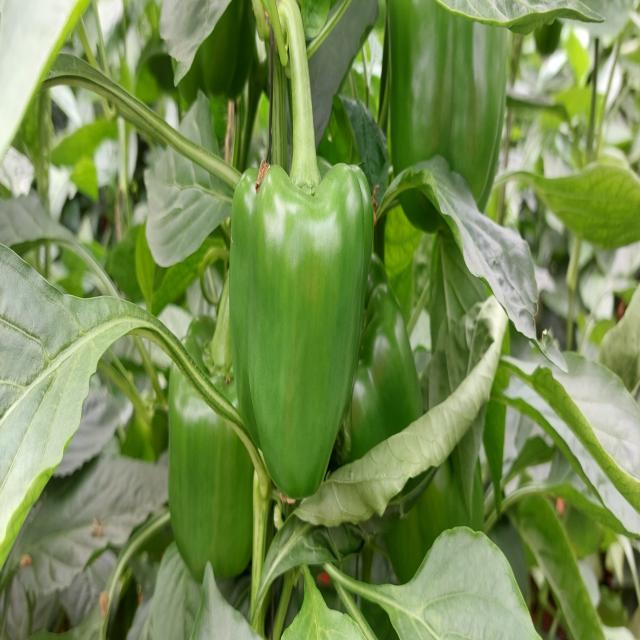Green--Not-ready-to-harvest: (234, 174, 367, 502), (370, 327, 483, 576), (388, 3, 503, 237), (169, 330, 255, 579)
